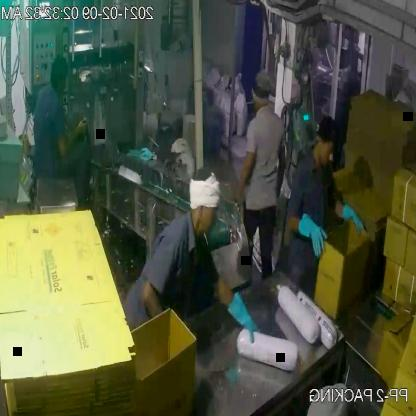glove: (224, 277, 259, 349), (296, 209, 329, 260), (340, 194, 369, 242)
no_glove: (57, 109, 91, 167), (235, 138, 261, 208)
